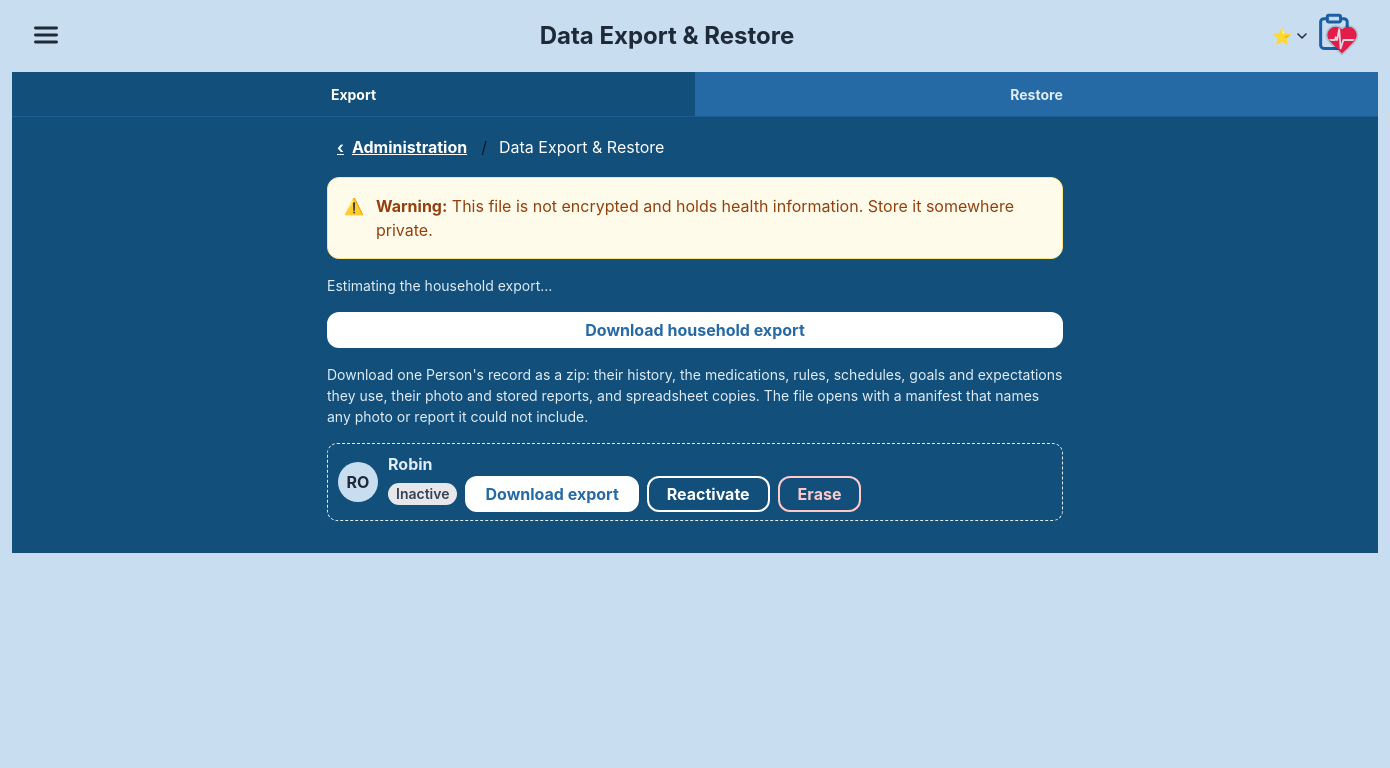
Data Export & Restore page › drops the Inactive label after Reactivate succeeds
The width and height of the screenshot is (1390, 768).
What coordinates should you click on to do the following:
click the button with aria-label "Reactivate Robin"
I would click on:
 (708, 494)
Its box is [647, 476, 770, 512].
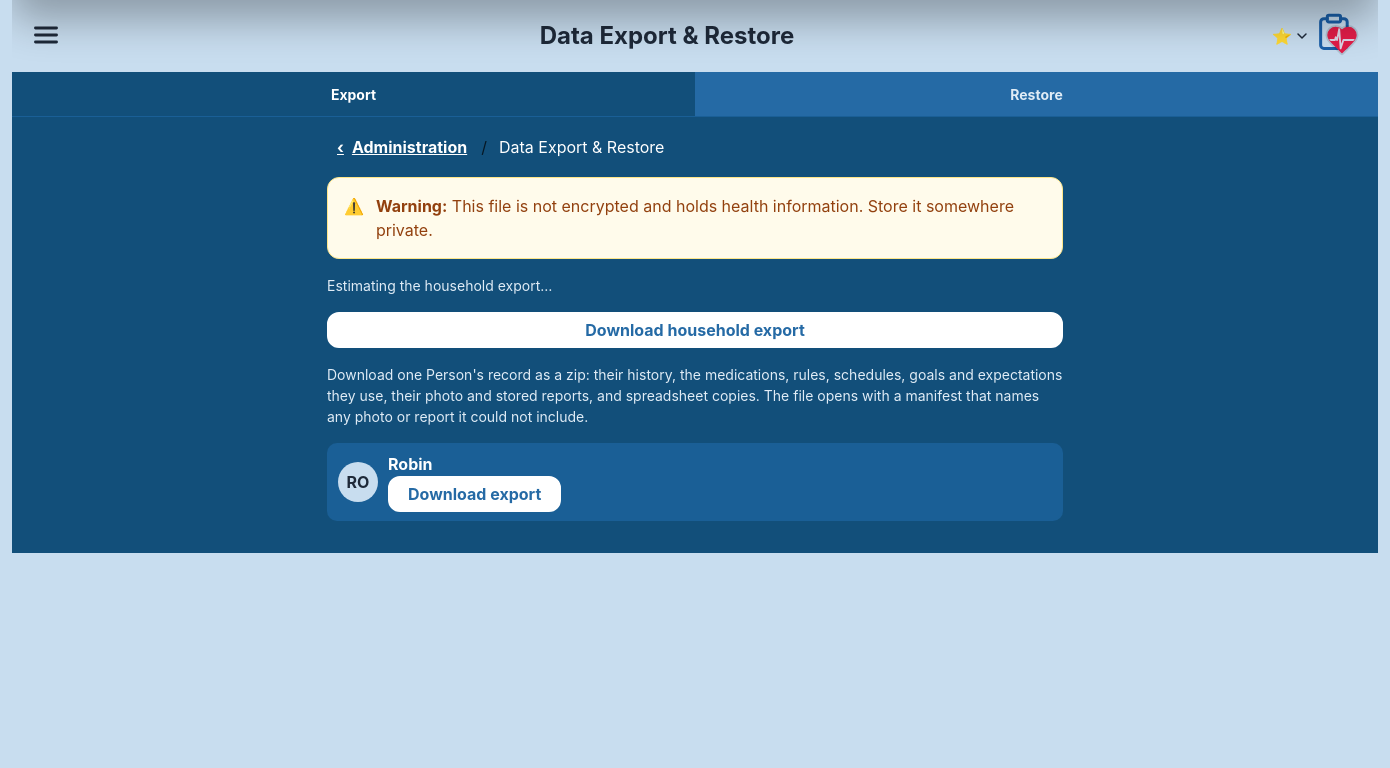
Check: the text "Inactive" is gone
